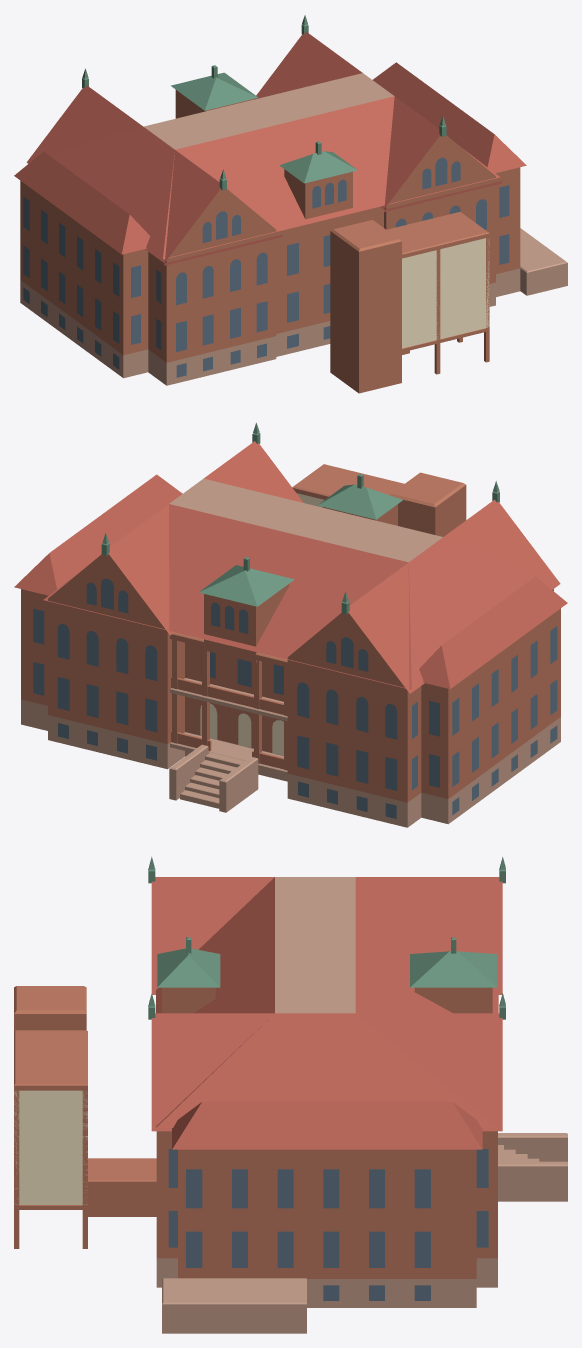
File: phx-asu-old-main.glb
3 renders of one model, top to bottom at view 1: azimuth 30°, elevation 25°; view 2: azimuth 150°, elevation 25°; view 3: azimuth 270°, elevation 25°, orthographic. The views are drawn at different scales.
Visible parts, largest first — view 1: Old Main; view 2: Old Main; view 3: Old Main.
Boxes of the visible parts, <box> form: Old Main: <box>14,15,567,393</box>; Old Main: <box>14,422,567,827</box>; Old Main: <box>14,856,567,1333</box>.
Size of the model in its own units: 47.25 by 21.4 by 41.2.
